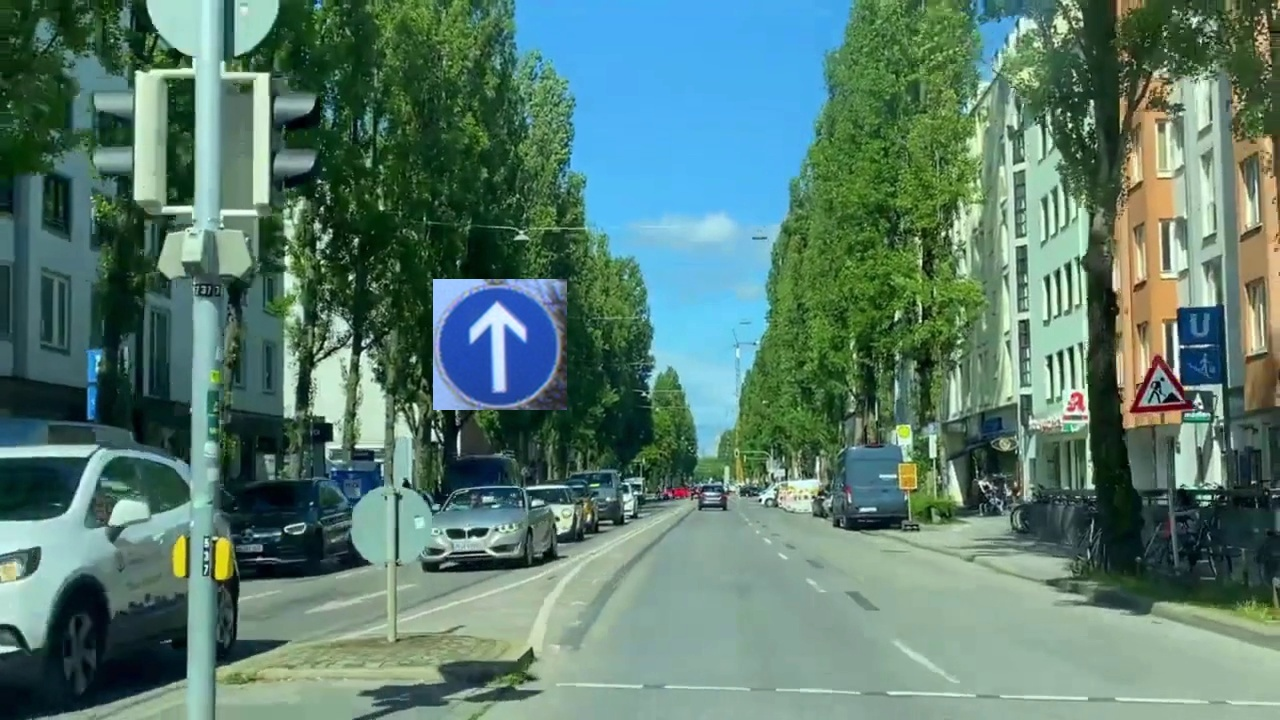Ahead only: (433, 279, 567, 410)
